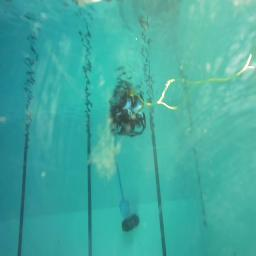Full: (121, 214, 139, 230)
back: (110, 108, 146, 137)
